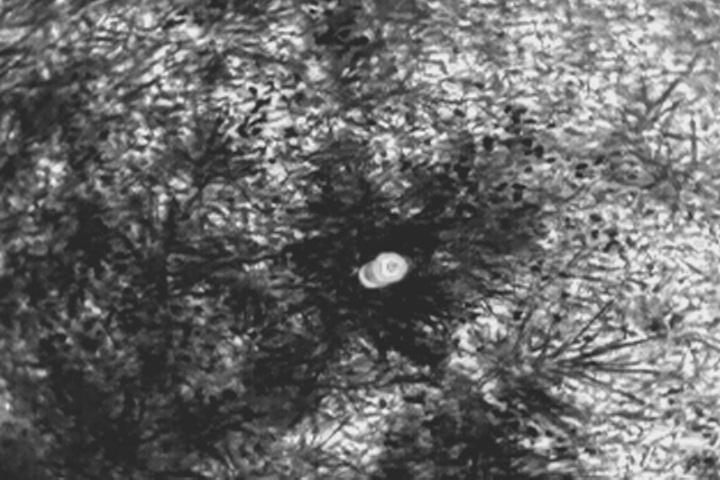landmine: (356, 250, 409, 291)
